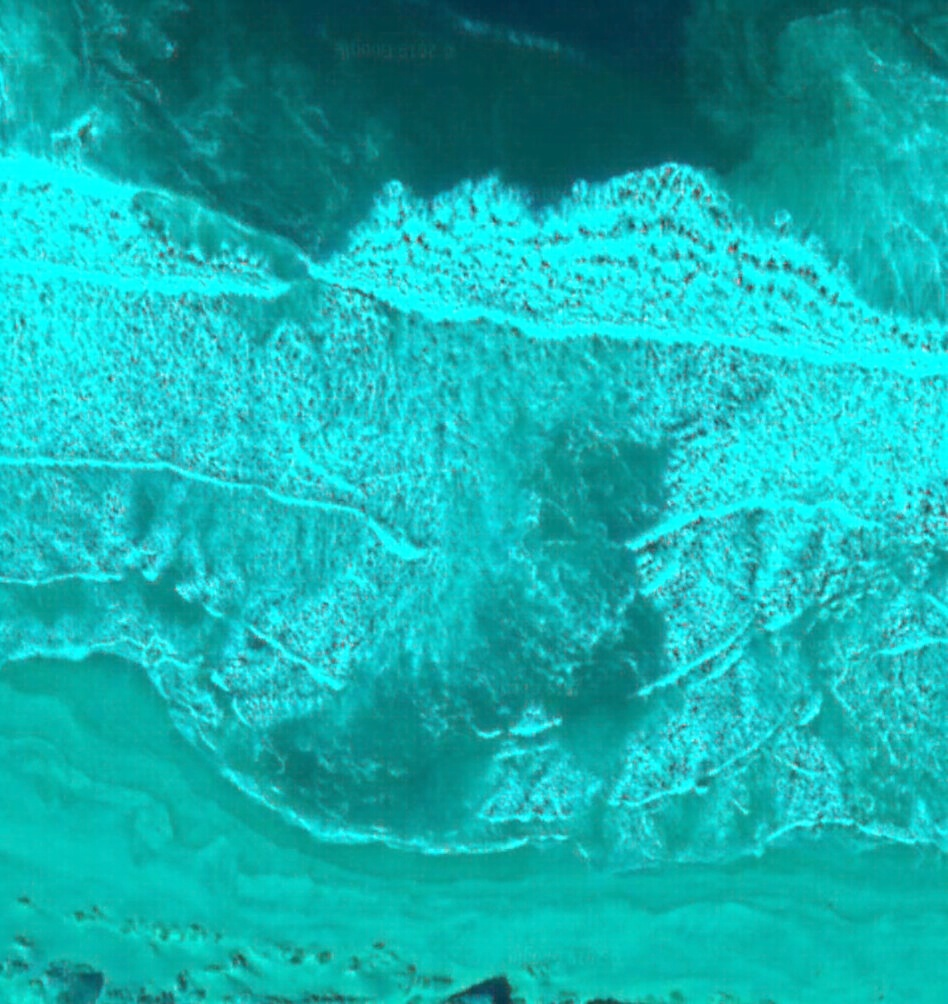rip_current: (293, 232, 718, 817)
